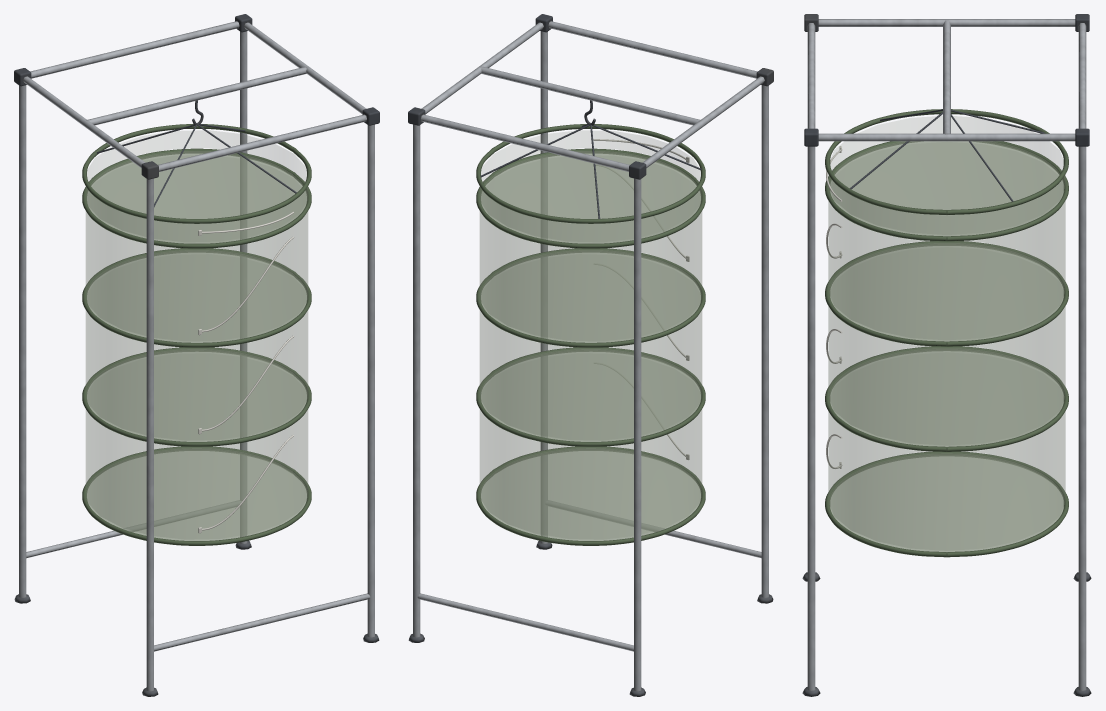
File: kryj_suszarka.glb
3 views of the same model, side by side, from view 1: azimuth 30°, elevation 25°; view 2: azimuth 150°, elevation 25°; view 3: azimuth 270°, elevation 25° (orthographic). The views are drawn at different scales.
Parts seen in each view (by area): view 1: Siatka, Stelaz; view 2: Siatka, Stelaz; view 3: Siatka, Stelaz.
Boxes of the visible parts, x1=… form: Siatka: x1=82, y1=124, x2=311, y2=545; Stelaz: x1=14, y1=14, x2=379, y2=696; Siatka: x1=476, y1=124, x2=705, y2=545; Stelaz: x1=408, y1=14, x2=773, y2=696; Siatka: x1=825, y1=109, x2=1068, y2=557; Stelaz: x1=802, y1=14, x2=1091, y2=696.
Size of the model in its own units: 0.896 by 1.92 by 0.896.
Materials: 6 (1 with a texture image).
